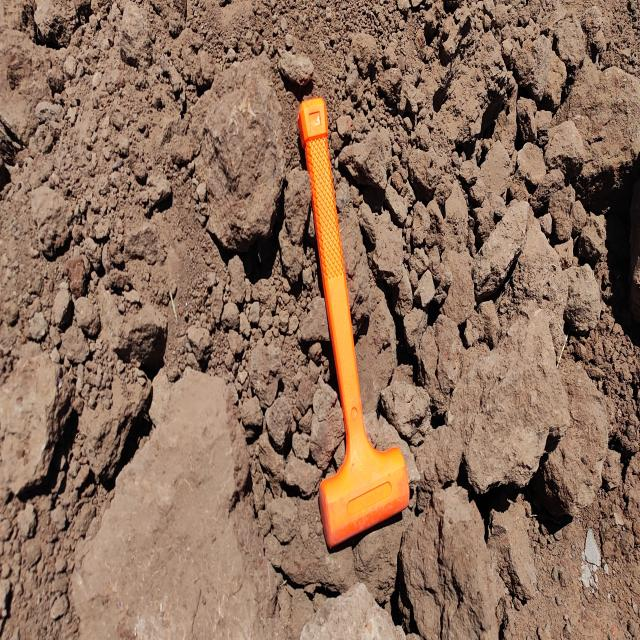Orange_hammer: (296, 94, 410, 550)
